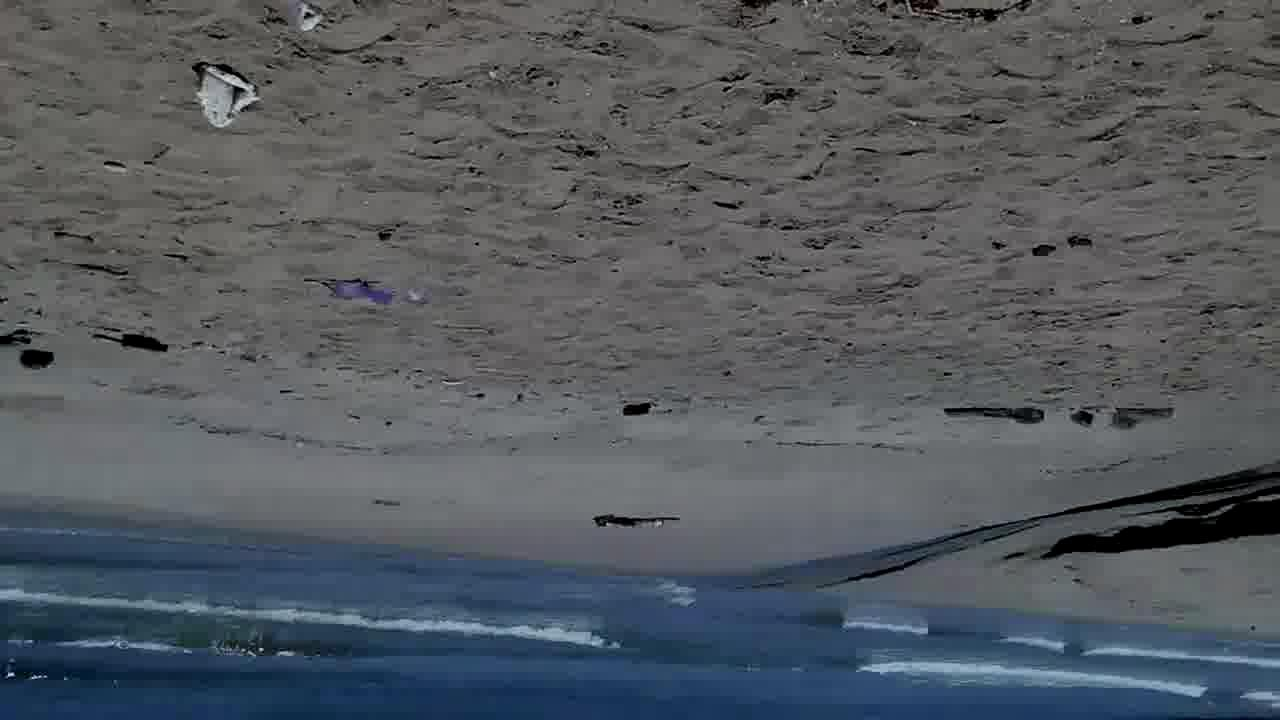obj: (190, 63, 266, 131), (876, 2, 1045, 28), (1069, 404, 1179, 432), (312, 277, 400, 308), (942, 407, 1048, 426), (596, 515, 694, 533), (110, 336, 170, 357), (18, 349, 54, 370)
sand/background: (0, 490, 1277, 718)
